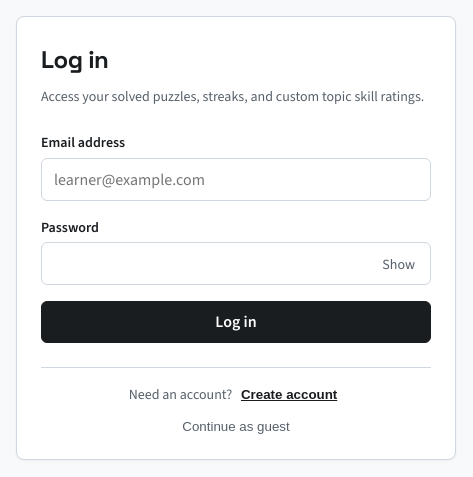
Scenario: Bug Hunt Arena: Visual Identity & Landing/Auth Flows › LoginRoute › supports show/hide password toggle
Click the button with aria-label "Show password": (399, 264) [374,250,423,277]
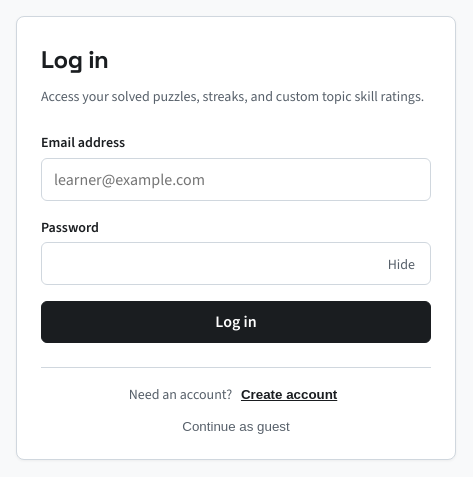
Now the button with aria-label "Hide password" is shown, box [380,250,423,277]
